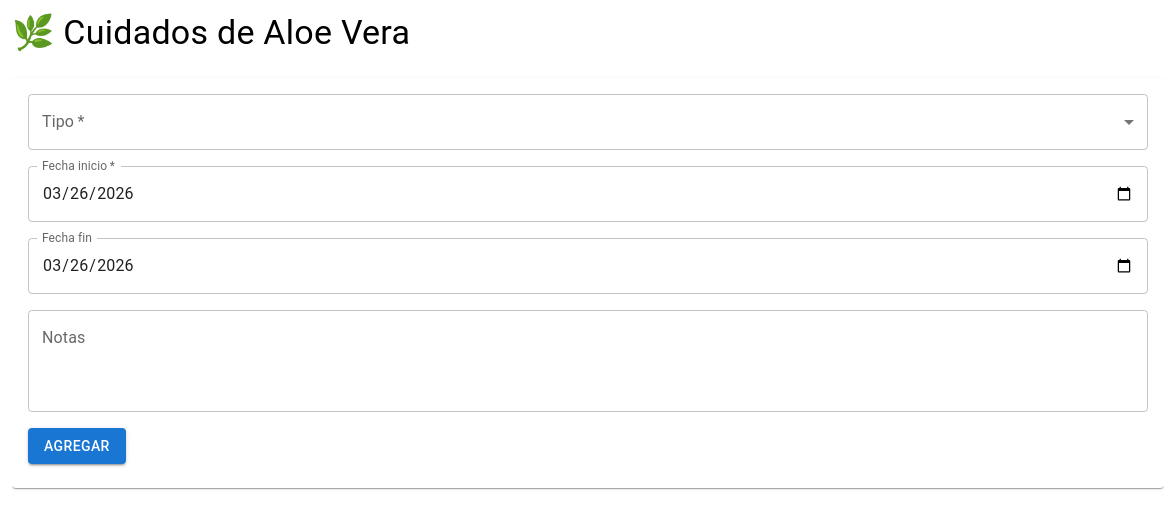
Test: CuidadosPage › renderiza las opciones de tipo de cuidado
Press the mouse on the dropdown named "tipo": (588, 122) [28,94,1148,150]
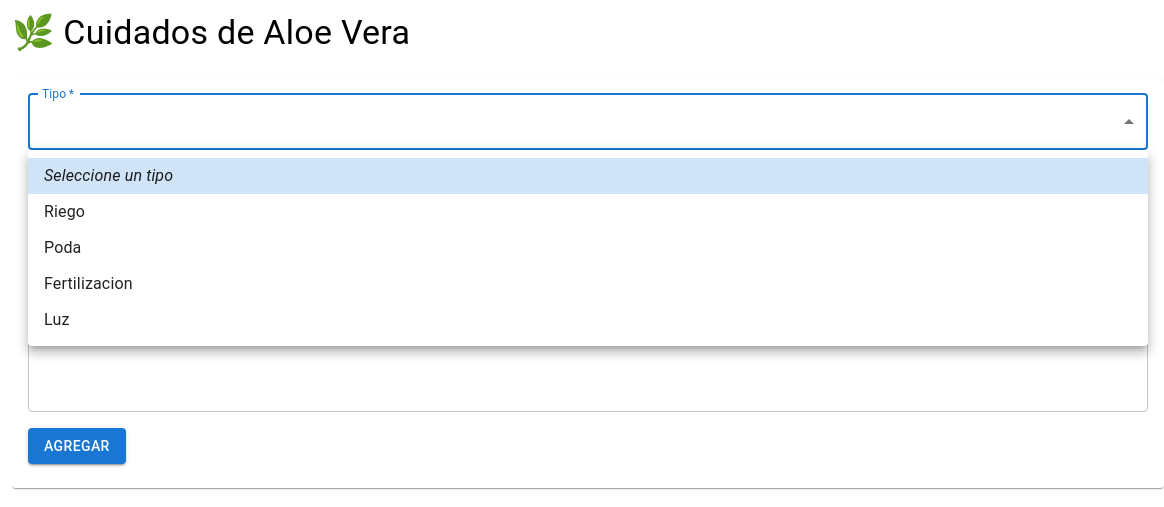
Result: the option "Riego" is shown at [44,202,85,221]
Result: the option "Poda" is shown at [44,238,82,257]
Result: the option "Fertilizacion" is shown at [44,274,133,293]
